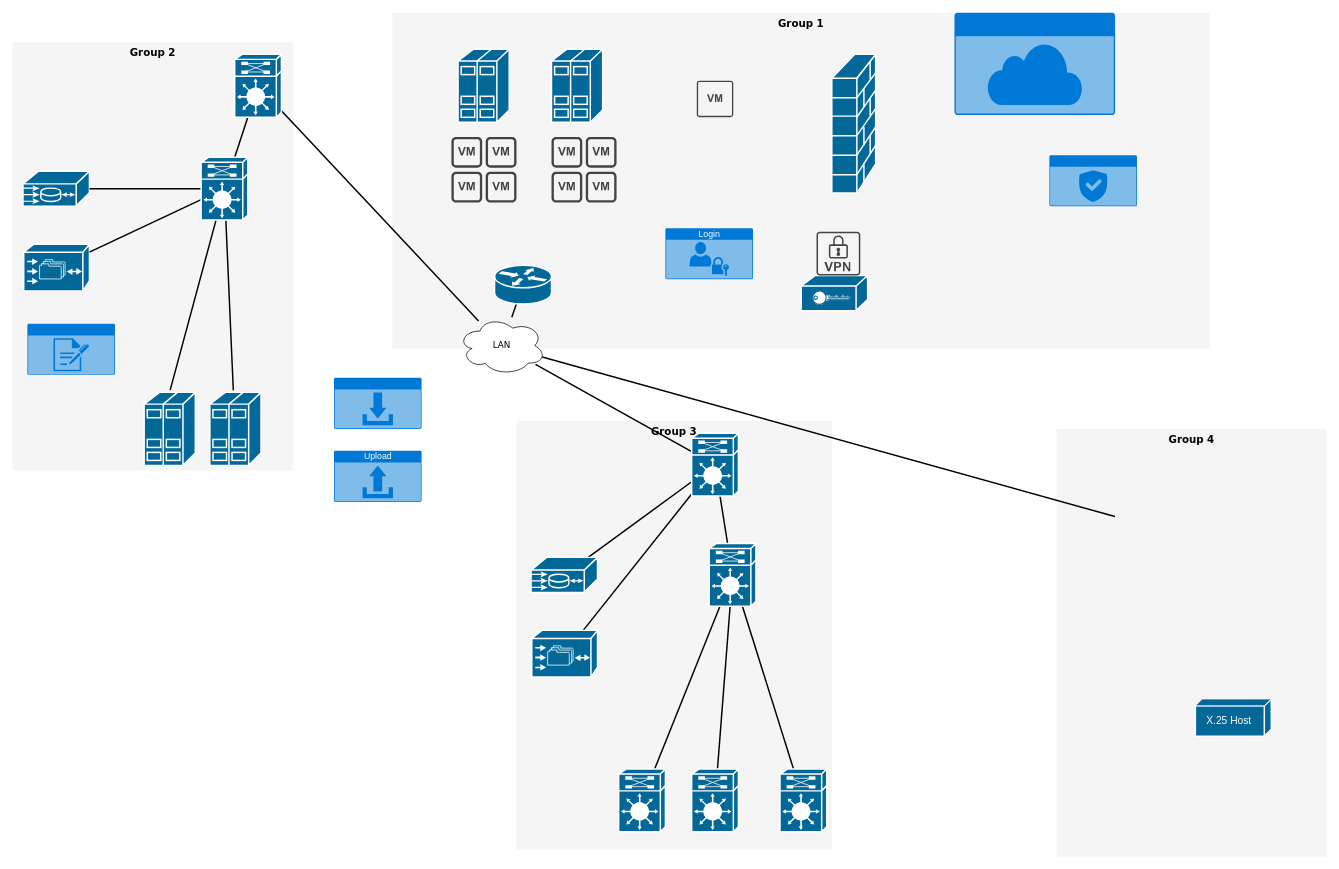
Some shapes in this 1339 by 869 pixel diagram are drawn without their labels. Here are the shapes that lost their labels. From the top down, the centre of each, then its label:
the point at 1034,63: Cloud
the point at 1093,180: Security
the point at 71,348: Log
the point at 377,403: Download
